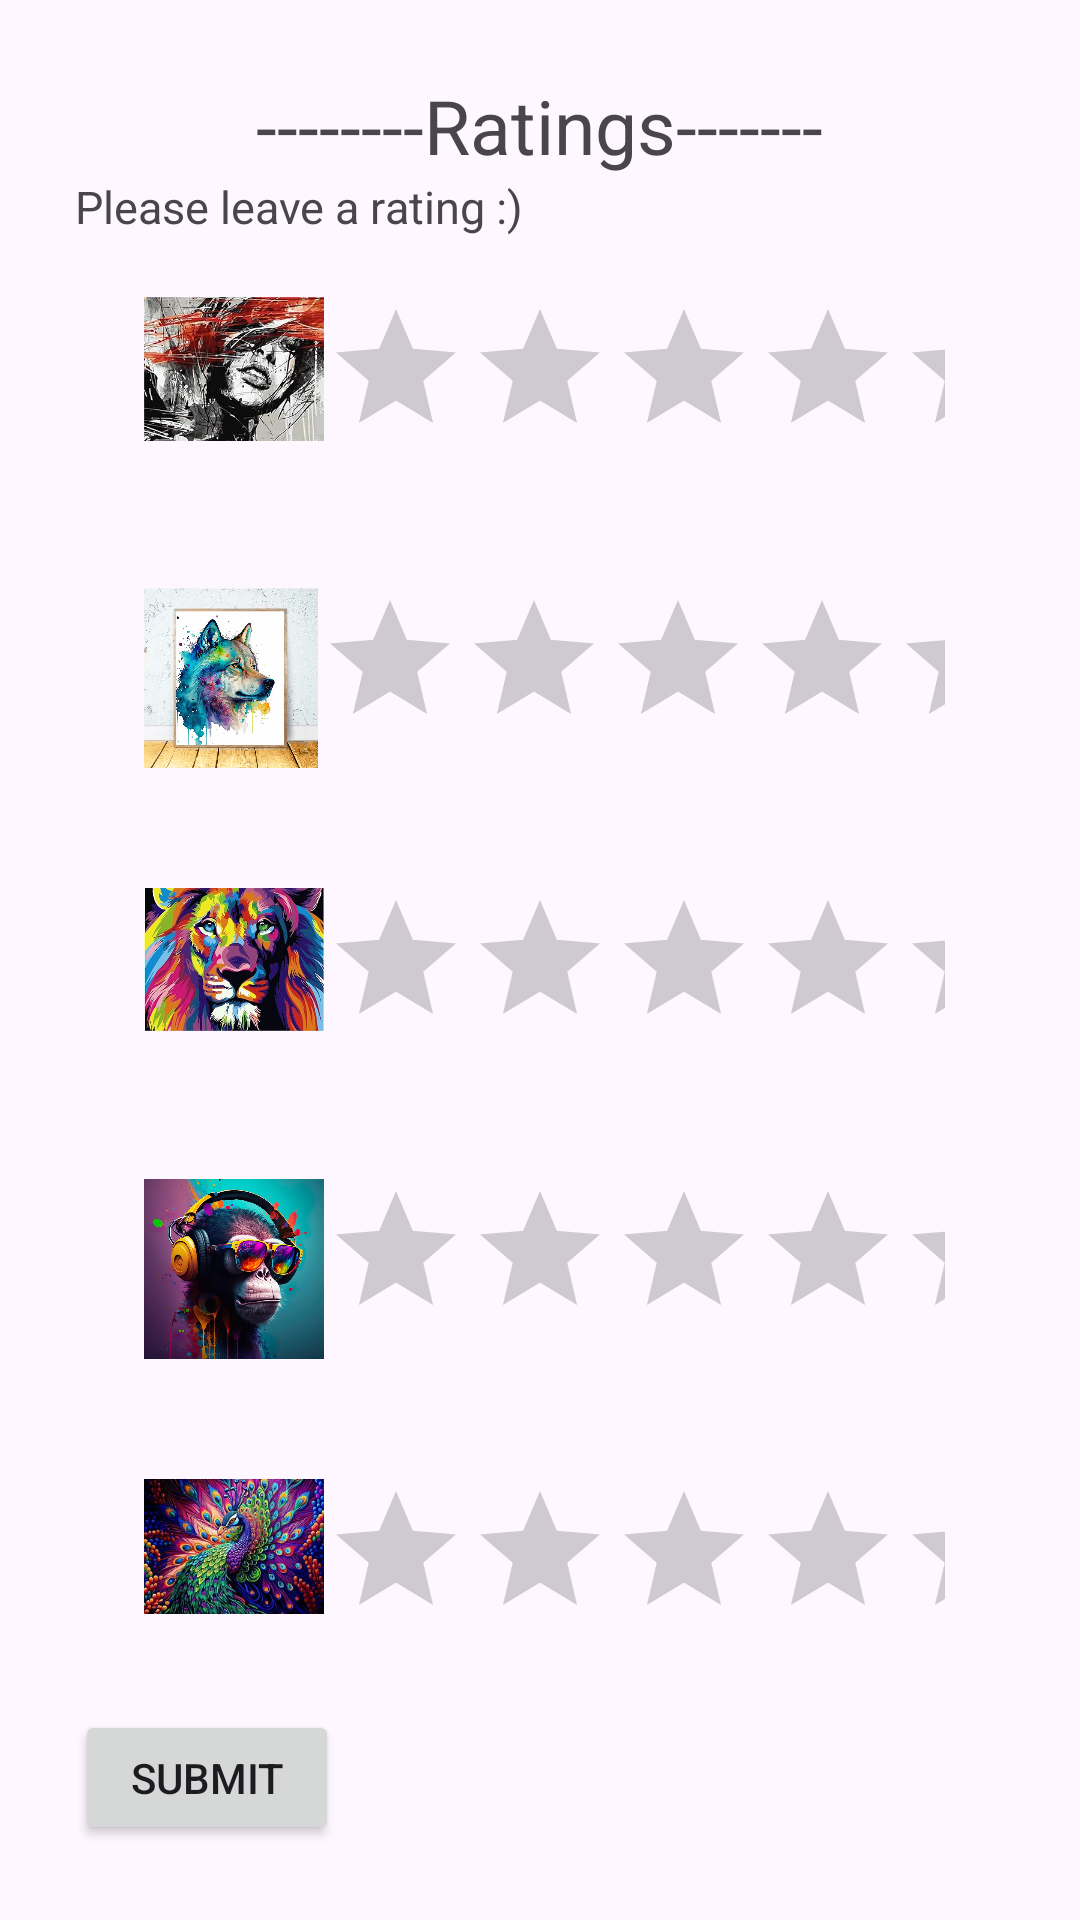

Where icons sit on this 1080px×1920px app screen, as (x1, y1, x2, y2):
lions: (144, 888, 324, 1031)
monkey: (144, 1179, 324, 1359)
peacock: (144, 1479, 324, 1614)
redblack: (144, 297, 324, 441)
wolfy: (144, 588, 318, 768)
